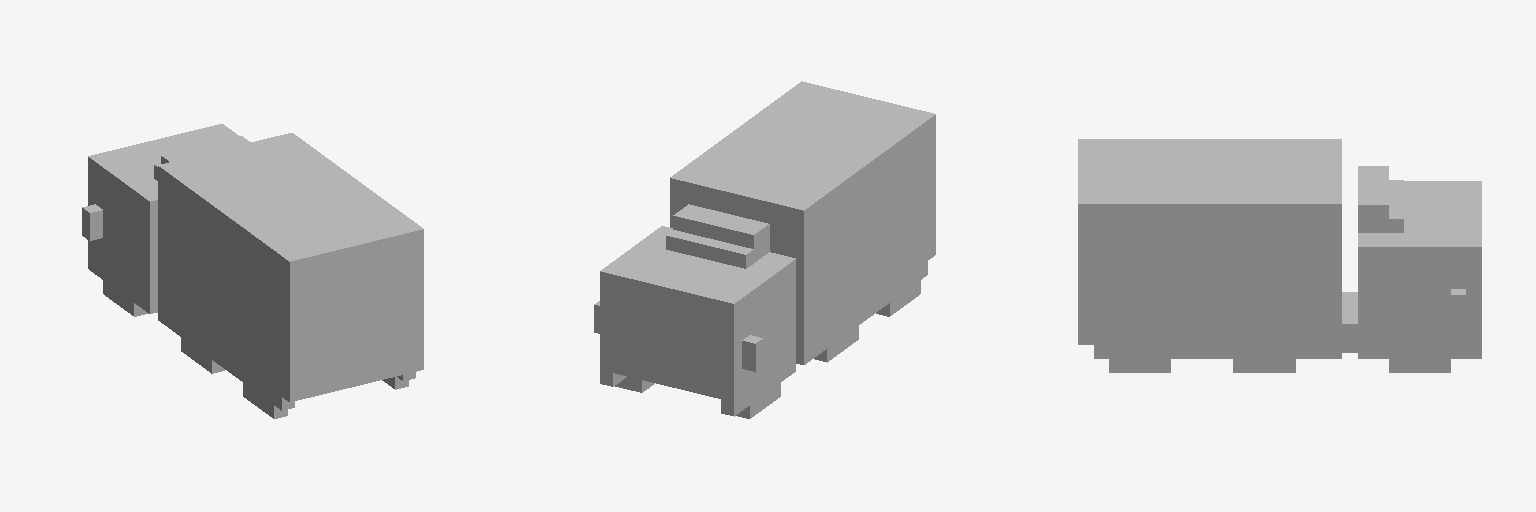
The model's file is Truck.obj.
The picture shows the model from 3 angles: view 1: azimuth 30°, elevation 25°; view 2: azimuth 150°, elevation 25°; view 3: azimuth 270°, elevation 25°; orthographic projection.
Visible parts, largest first — view 1: object 1; view 2: object 1; view 3: object 1.
Part boxes in pixels (bbox=[...]): object 1: bbox=[82, 124, 423, 418]; object 1: bbox=[594, 81, 935, 418]; object 1: bbox=[1078, 139, 1481, 372].
Bounding box in the file's own units: 1.2 × 1.2 × 2.6.